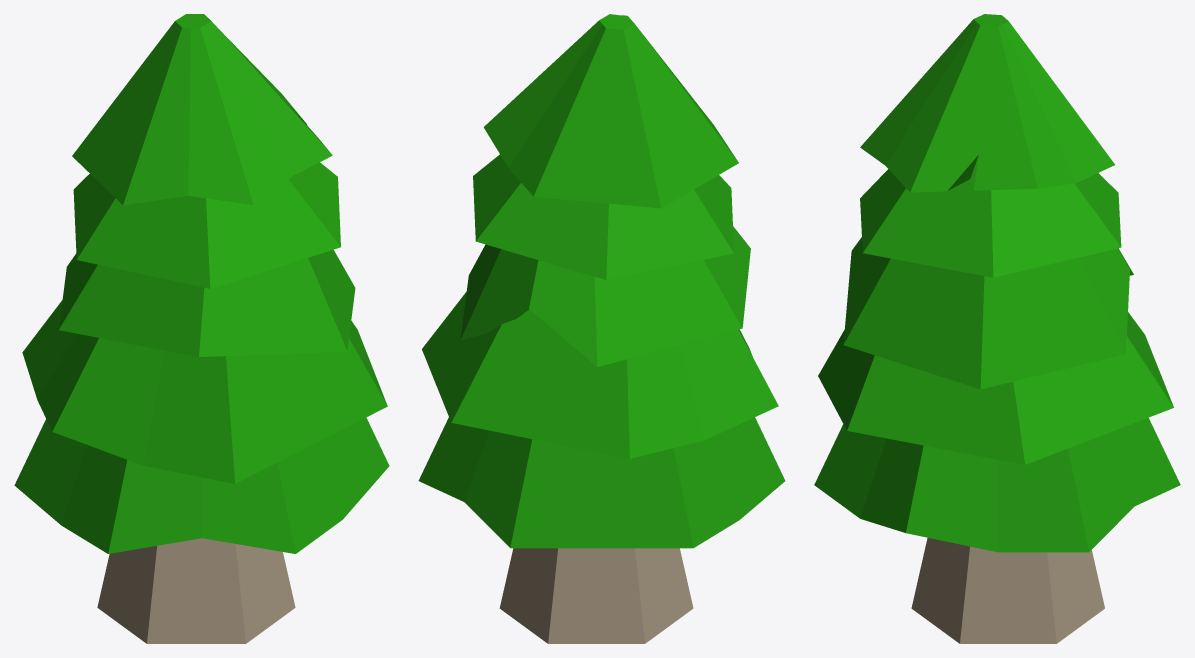
File: pointyTree.gltf
3 renders of one model, left to right at view 1: azimuth 30°, elevation 25°; view 2: azimuth 150°, elevation 25°; view 3: azimuth 270°, elevation 25°, orthographic. The views are drawn at different scales.
Parts seen in each view (by area): view 1: Cylinder.002_2, Cylinder.005_5, Cylinder.001_1, Cylinder.003_3, Cylinder.004_4, Cylinder_0; view 2: Cylinder.002_2, Cylinder.001_1, Cylinder.005_5, Cylinder.003_3, Cylinder.004_4, Cylinder_0; view 3: Cylinder.001_1, Cylinder.003_3, Cylinder.005_5, Cylinder.002_2, Cylinder.004_4, Cylinder_0.
Part boxes in pixels (<box>): Cylinder.002_2: <box>22,300,387,483</box>; Cylinder.005_5: <box>72,14,332,205</box>; Cylinder.001_1: <box>14,417,389,553</box>; Cylinder.003_3: <box>58,249,355,356</box>; Cylinder.004_4: <box>73,162,340,288</box>; Cylinder_0: <box>97,538,295,643</box>; Cylinder.002_2: <box>422,292,778,458</box>; Cylinder.001_1: <box>418,417,785,548</box>; Cylinder.005_5: <box>483,14,738,208</box>; Cylinder.003_3: <box>460,226,750,366</box>; Cylinder.004_4: <box>473,154,733,280</box>; Cylinder_0: <box>499,548,693,643</box>; Cylinder.001_1: <box>814,417,1180,552</box>; Cylinder.003_3: <box>843,237,1133,389</box>; Cylinder.005_5: <box>860,14,1114,192</box>; Cylinder.002_2: <box>818,312,1173,464</box>; Cylinder.004_4: <box>860,169,1121,277</box>; Cylinder_0: <box>911,538,1104,643</box>.
Size of the model in its own units: 3.91 by 6.65 by 3.79.
